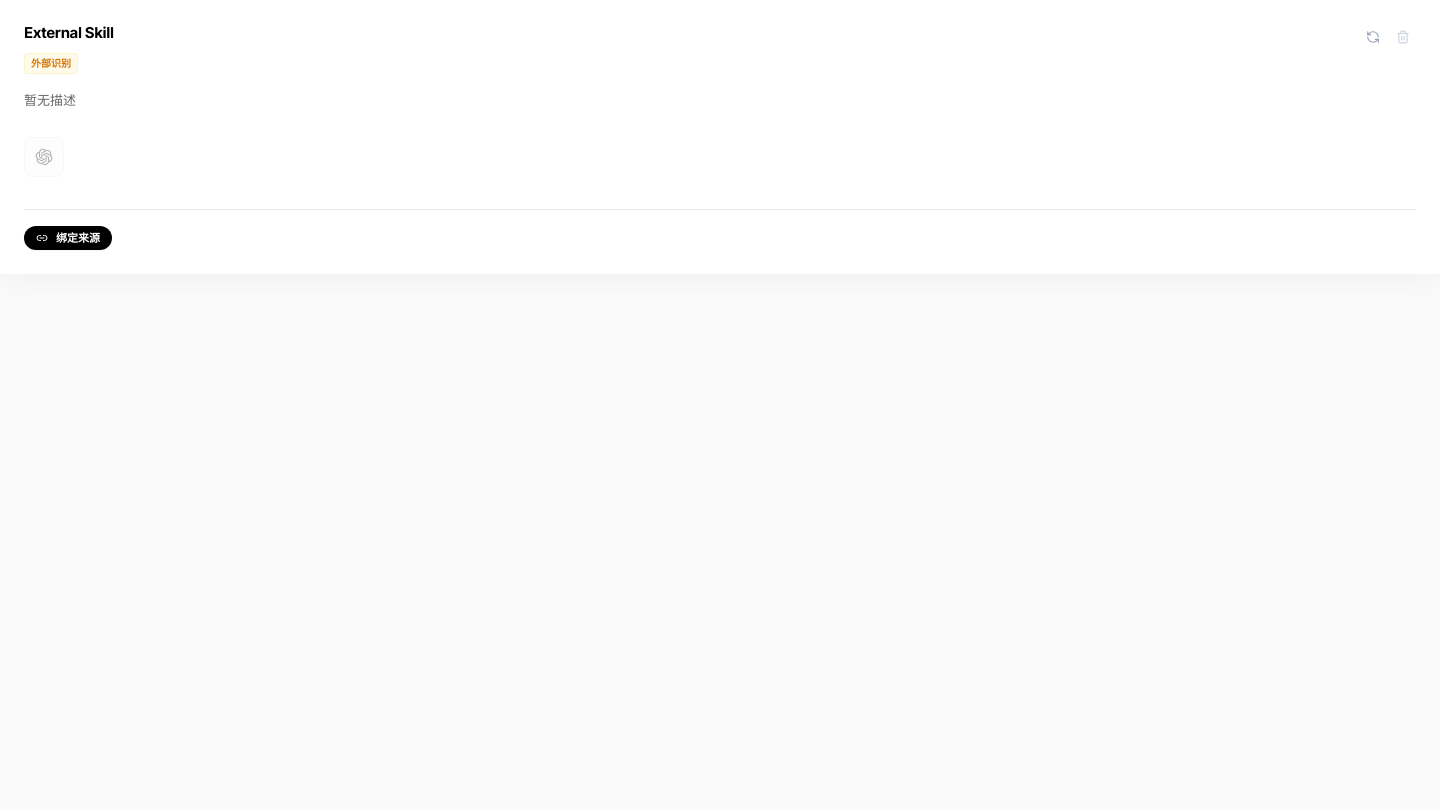
it: SkillCard › 外部识别技能点击更新会打开收编引导弹窗
The width and height of the screenshot is (1440, 810).
Click the button titled "绑定来源后开启自动更新" at (1373, 37), box top-left (1360, 24), bottom-right (1386, 50)
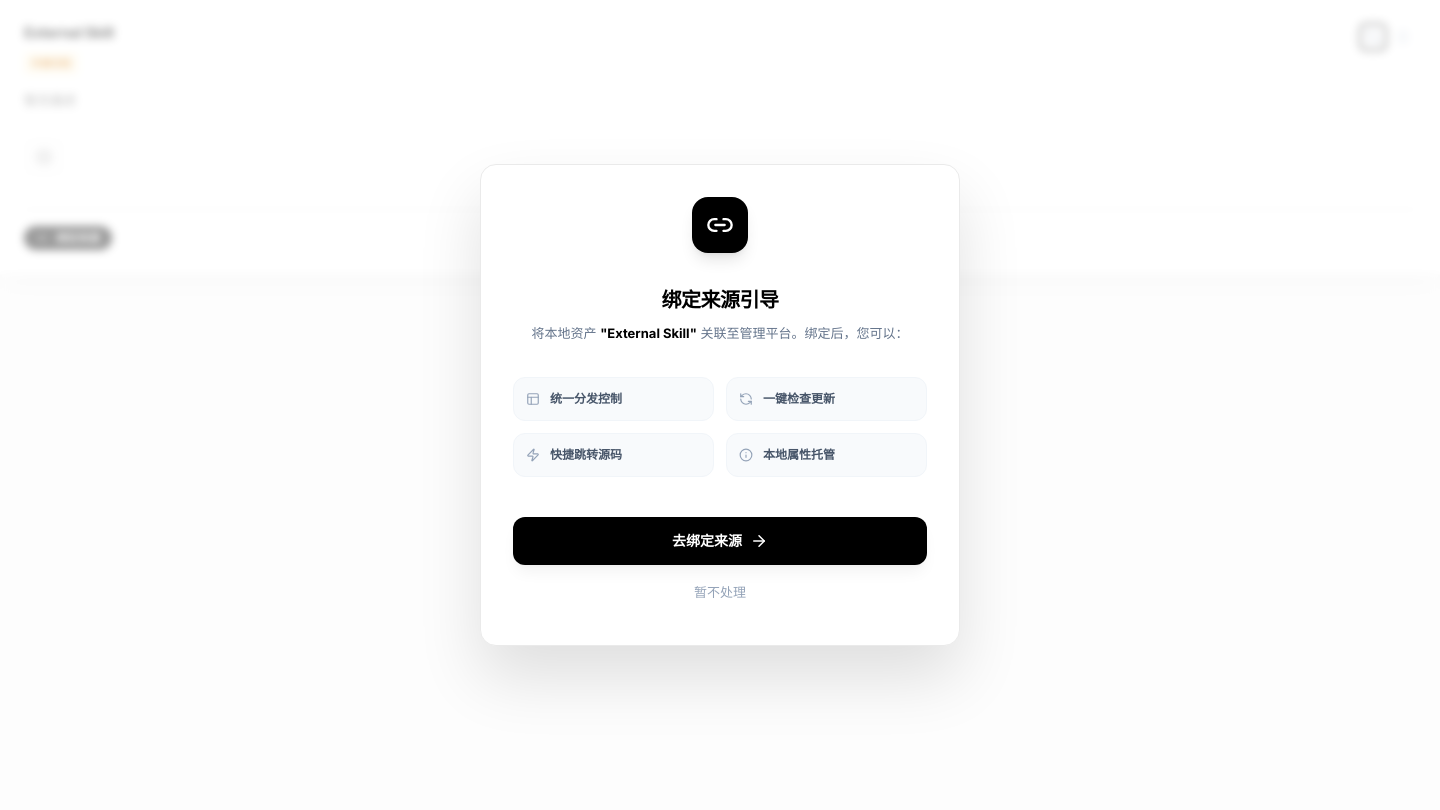
expect the heading "绑定来源引导" is shown: met, box top-left (662, 288), bottom-right (778, 312)
